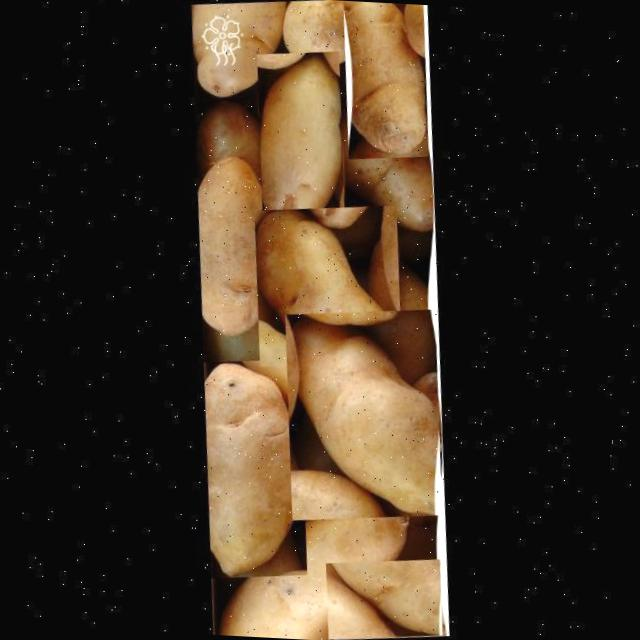potato: (274, 302, 452, 528), (207, 492, 421, 640), (192, 354, 318, 584), (246, 198, 410, 374), (299, 67, 442, 248), (248, 48, 354, 234), (187, 150, 285, 338), (334, 1, 436, 162), (321, 552, 445, 640), (278, 0, 371, 73)
